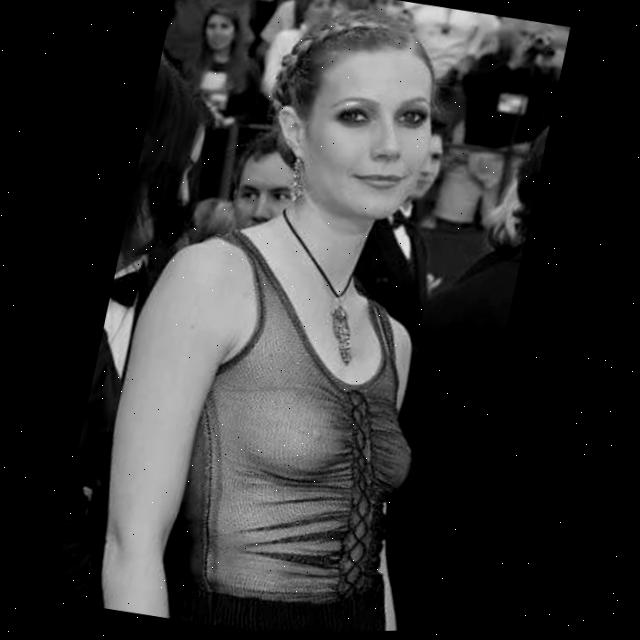face: (267, 20, 452, 240), (222, 132, 310, 241)
